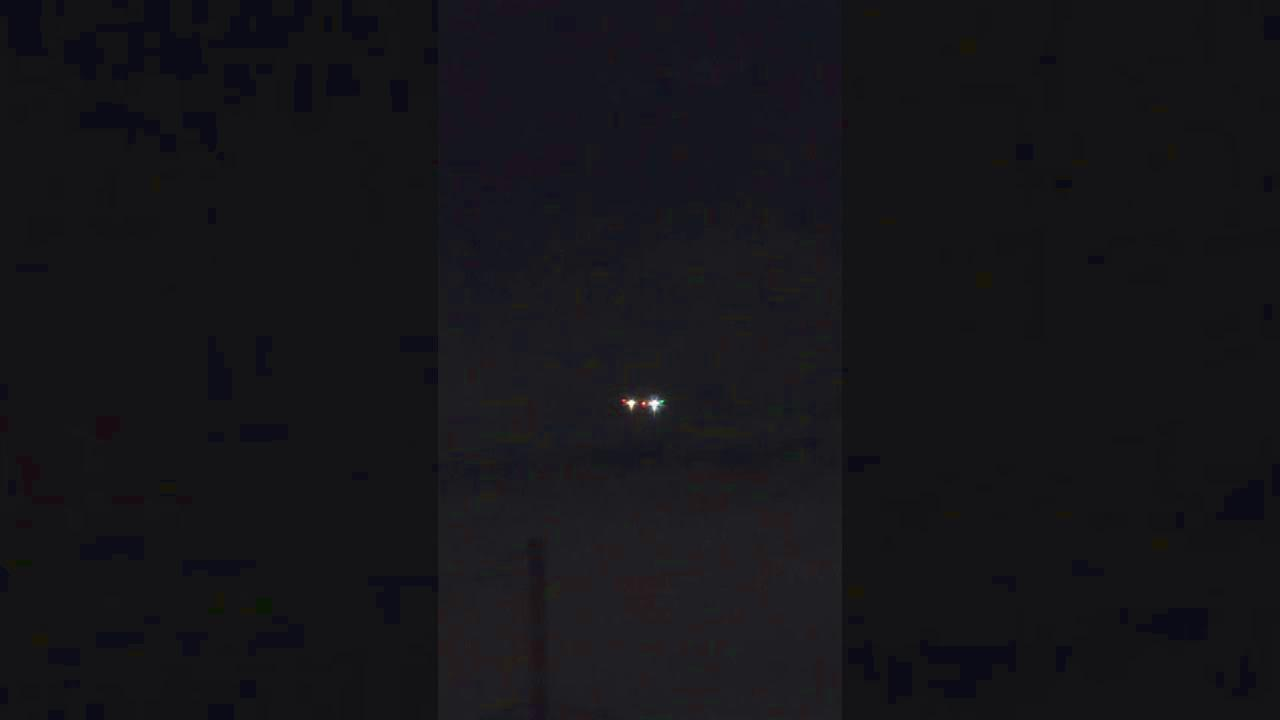Plane: (586, 379, 707, 433)
